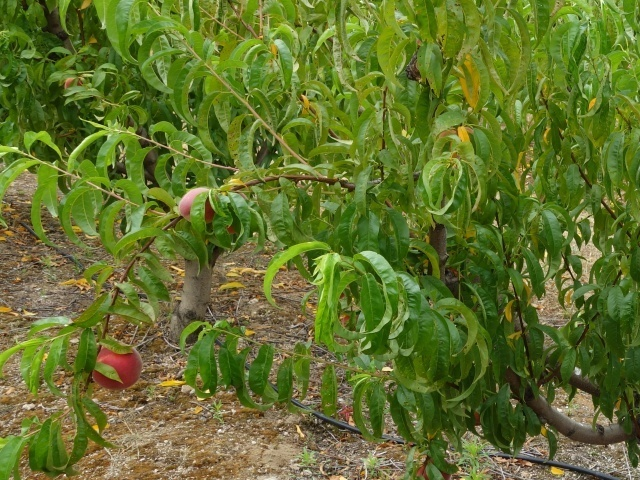peach: (88, 340, 144, 394), (173, 182, 220, 224)
